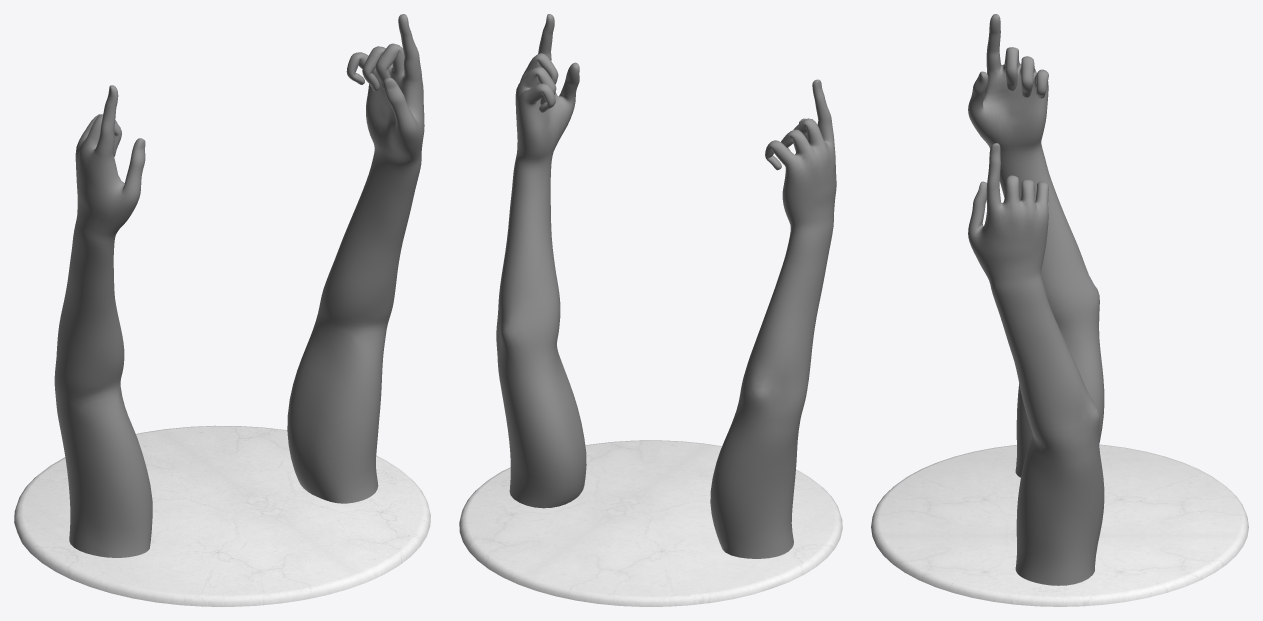
File: Decor_Hands01.FBX
3 views of the same model, side by side, from view 1: azimuth 30°, elevation 25°; view 2: azimuth 150°, elevation 25°; view 3: azimuth 270°, elevation 25° (orthographic). The views are drawn at different scales.
Visible parts, largest first — view 1: Decor_Hands01, Decor_Cylinder01; view 2: Decor_Hands01, Decor_Cylinder01; view 3: Decor_Hands01, Decor_Cylinder01.
Boxes of the visible parts, x1=… form: Decor_Hands01: x1=54, y1=14, x2=424, y2=557; Decor_Cylinder01: x1=14, y1=425, x2=430, y2=606; Decor_Hands01: x1=496, y1=14, x2=836, y2=558; Decor_Cylinder01: x1=459, y1=440, x2=842, y2=606; Decor_Hands01: x1=968, y1=14, x2=1104, y2=585; Decor_Cylinder01: x1=871, y1=444, x2=1248, y2=606.
Size of the model in its own units: 32.96 by 43.12 by 32.96.
